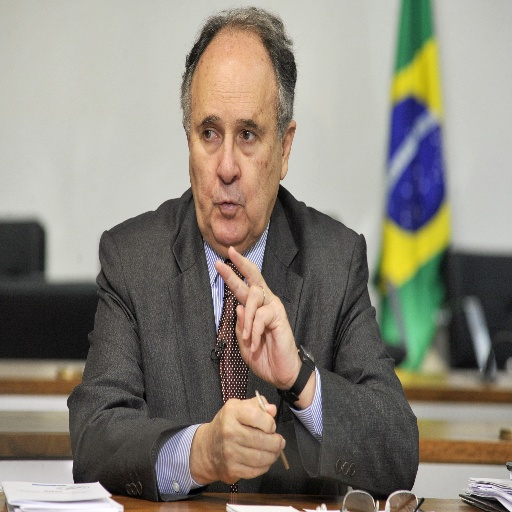hand: (213, 246, 297, 387), (208, 393, 285, 489)
